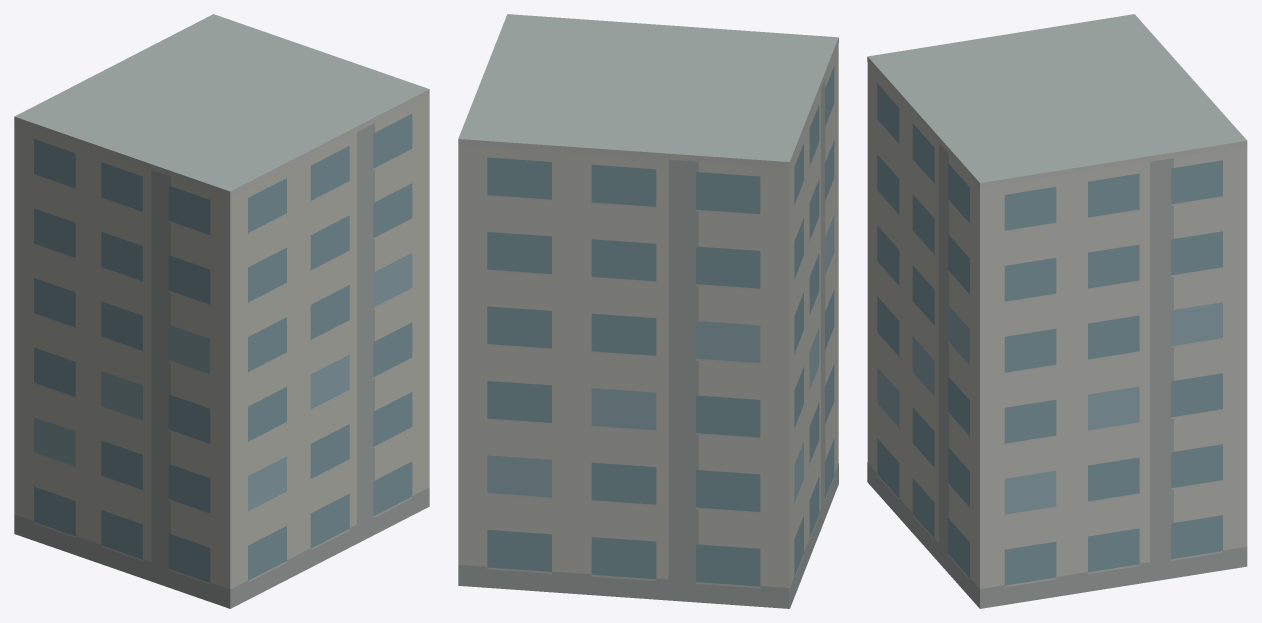
Rendered from residential-6b78905d-720c-42d3-8e90-d207923756d0.glb.
The picture shows the model from 3 angles, left to right: view 1: azimuth 30°, elevation 25°; view 2: azimuth 150°, elevation 25°; view 3: azimuth 270°, elevation 25°; orthographic projection. The views are drawn at different scales.
Visible parts, largest first — view 1: residential-6b78905d-720c-42d3-8e90-d207923756d0.tmp; view 2: residential-6b78905d-720c-42d3-8e90-d207923756d0.tmp; view 3: residential-6b78905d-720c-42d3-8e90-d207923756d0.tmp.
Part boxes in pixels (<box>): residential-6b78905d-720c-42d3-8e90-d207923756d0.tmp: <box>14,14,429,608</box>; residential-6b78905d-720c-42d3-8e90-d207923756d0.tmp: <box>458,14,838,608</box>; residential-6b78905d-720c-42d3-8e90-d207923756d0.tmp: <box>867,14,1247,608</box>.
Size of the model in its own units: 15.34 by 18 by 14.56.
